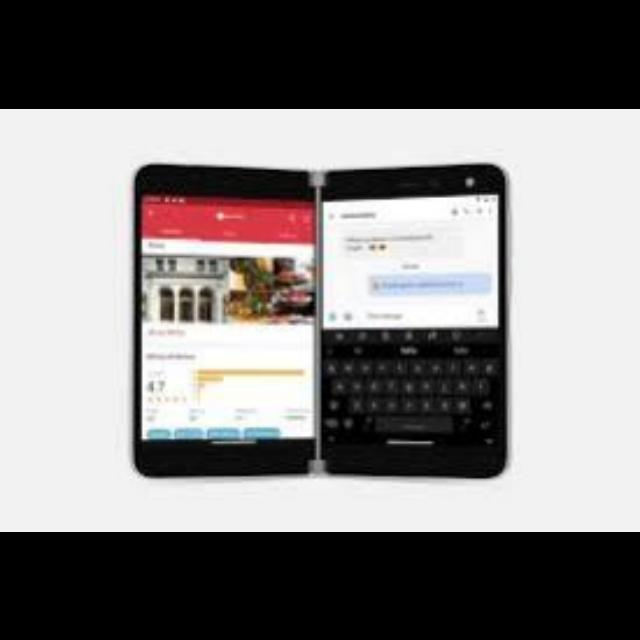Phone: (322, 165, 512, 479), (136, 156, 316, 478)
